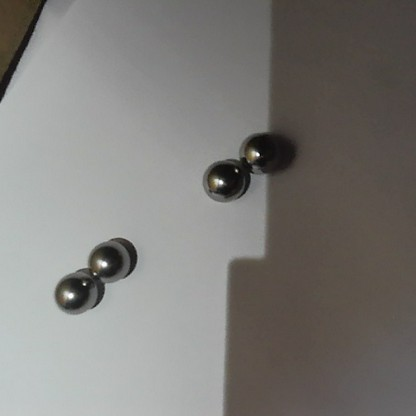ironball: (49, 269, 101, 316), (237, 130, 287, 177), (84, 238, 133, 284), (202, 159, 249, 205)
